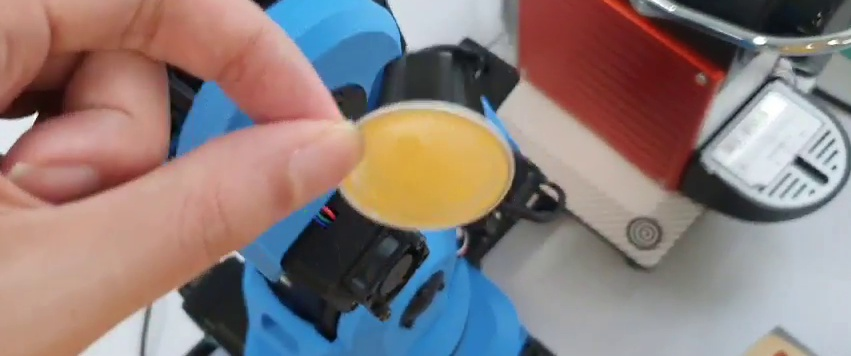capsule_10: (336, 47, 516, 230)
